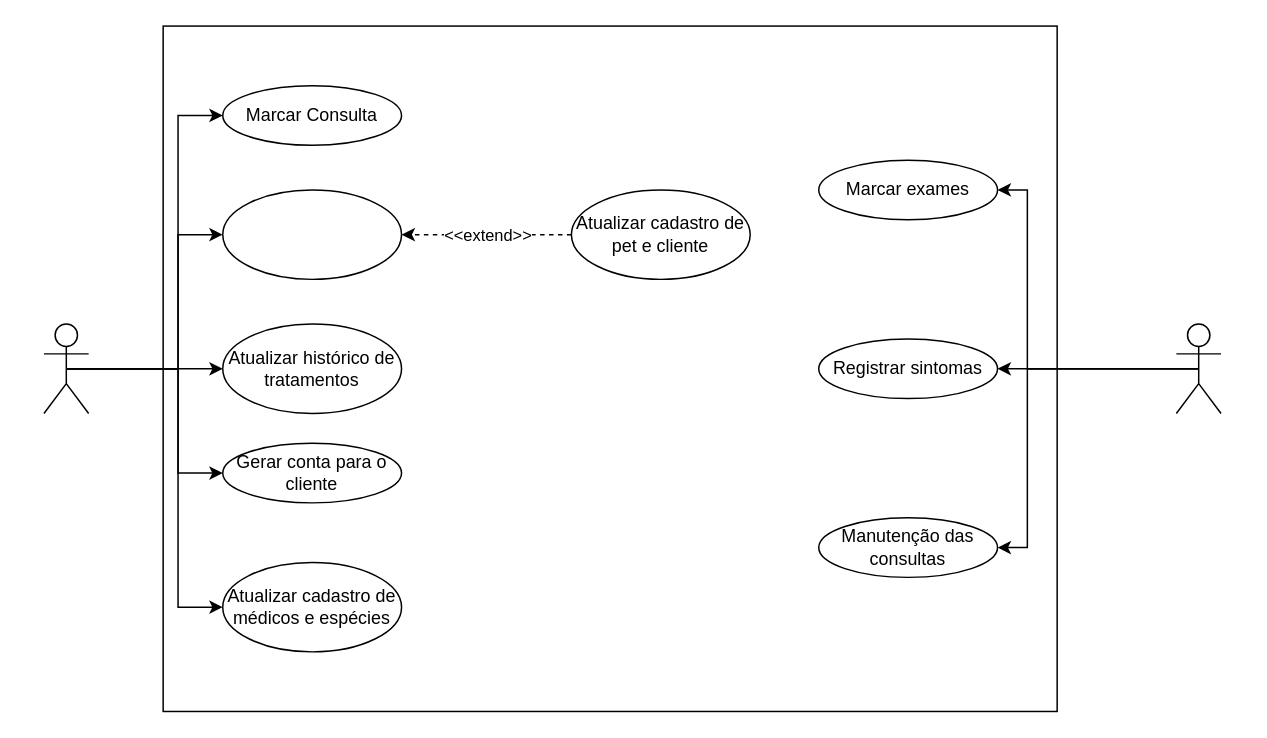
Some shapes in this 1267 by 738 pixel diagram are drawn without their labels. Here are the shapes that lost their labels. From the top down, the centre of each, then its label:
the point at 311,233: Criar cadastro de pet e cliente
the point at 65,368: Secretária
the point at 1198,368: Veterinário
